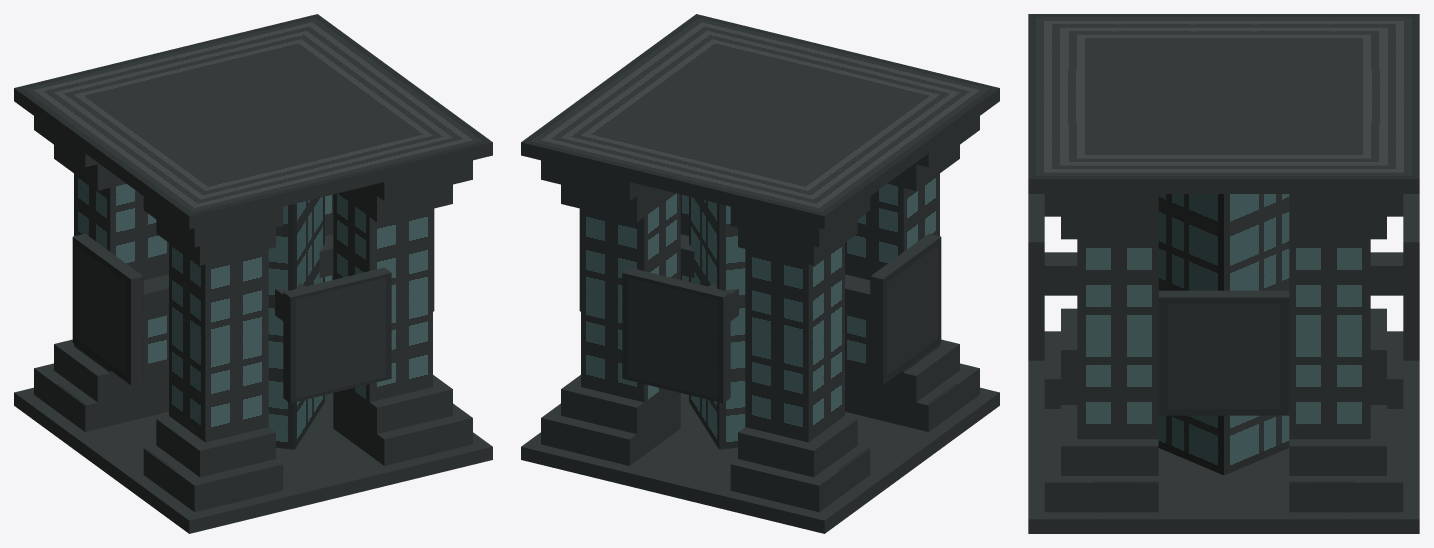
File: NC Fusion Core.glb
3 renders of one model, left to right at view 1: azimuth 30°, elevation 25°; view 2: azimuth 150°, elevation 25°; view 3: azimuth 270°, elevation 25°, orthographic. The views are drawn at different scales.
Parts seen in each view (by area): view 1: Fusion Core, Spinning thing; view 2: Fusion Core, Spinning thing; view 3: Fusion Core, Spinning thing.
Part boxes in pixels (box(x1,y1,x2,y2)): Fusion Core: box(14, 14, 492, 533); Spinning thing: box(268, 196, 324, 449); Fusion Core: box(521, 14, 999, 533); Spinning thing: box(689, 196, 745, 449); Fusion Core: box(1028, 14, 1419, 533); Spinning thing: box(1158, 194, 1289, 475).
Size of the model in its own units: 3 by 3 by 3.
2 materials, 2 textured.
